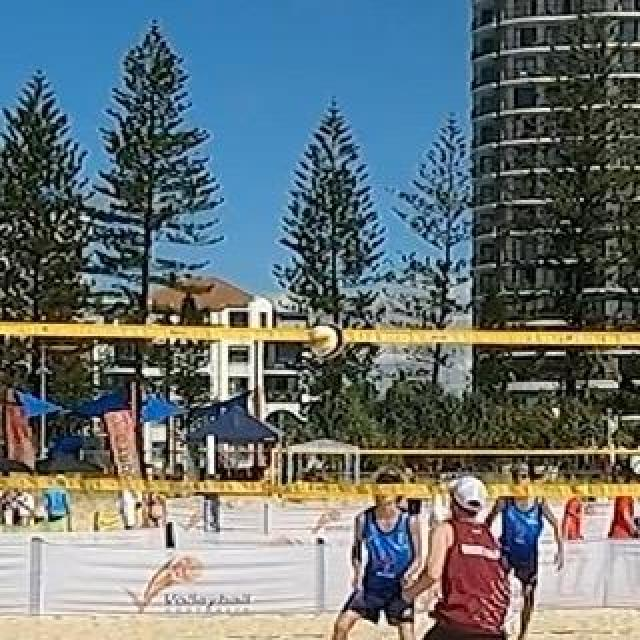volleyball: (306, 322, 344, 360)
